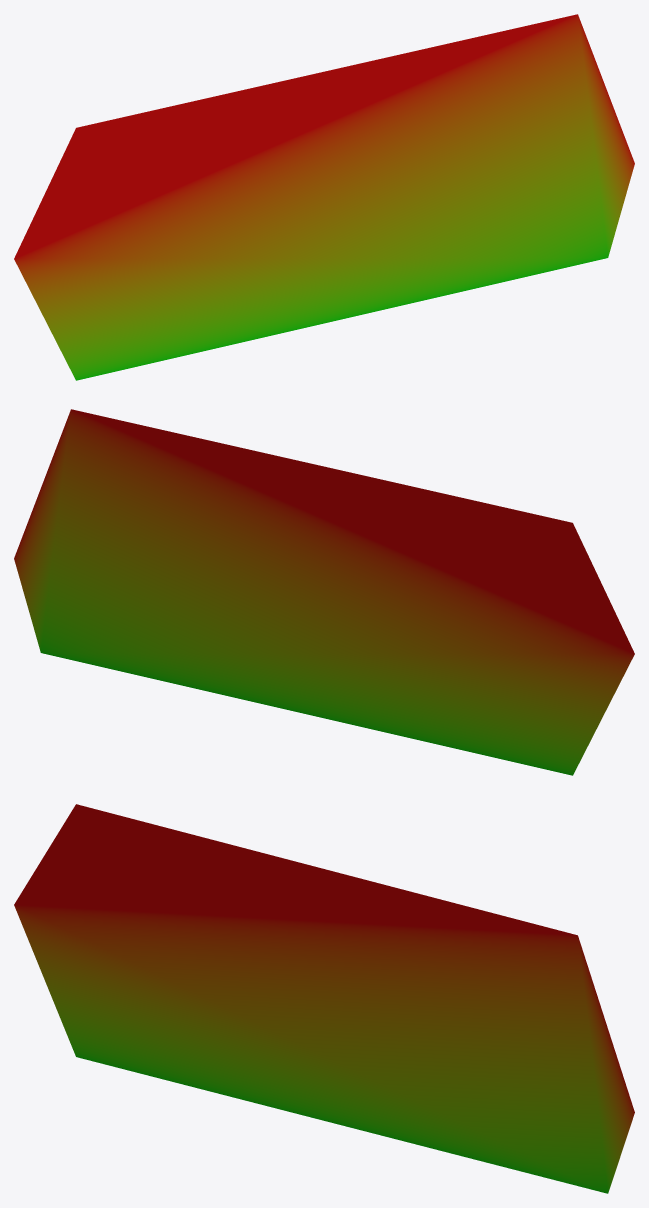
Rendered from Var9_LOD3.fbx.
3 views of the same model, one above another, from view 1: azimuth 30°, elevation 25°; view 2: azimuth 150°, elevation 25°; view 3: azimuth 330°, elevation 25° (orthographic).
Parts seen in each view (by area): view 1: _8499_Var9_LOD3; view 2: _8499_Var9_LOD3; view 3: _8499_Var9_LOD3.
Part boxes in pixels (x1=…): _8499_Var9_LOD3: x1=14, y1=14, x2=634, y2=380; _8499_Var9_LOD3: x1=14, y1=409, x2=634, y2=775; _8499_Var9_LOD3: x1=14, y1=804, x2=634, y2=1193.
Size of the model in its own units: 16.51 by 6.61 by 4.77e-07.
